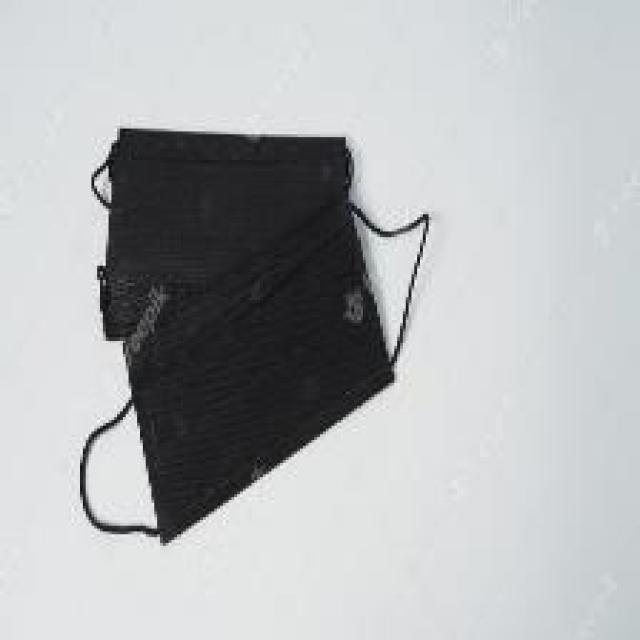Mask: (42, 88, 490, 626)
